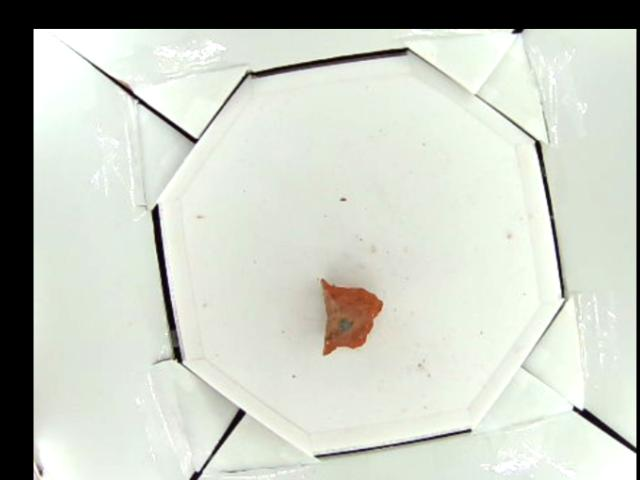Brisk: (318, 275, 383, 355)
